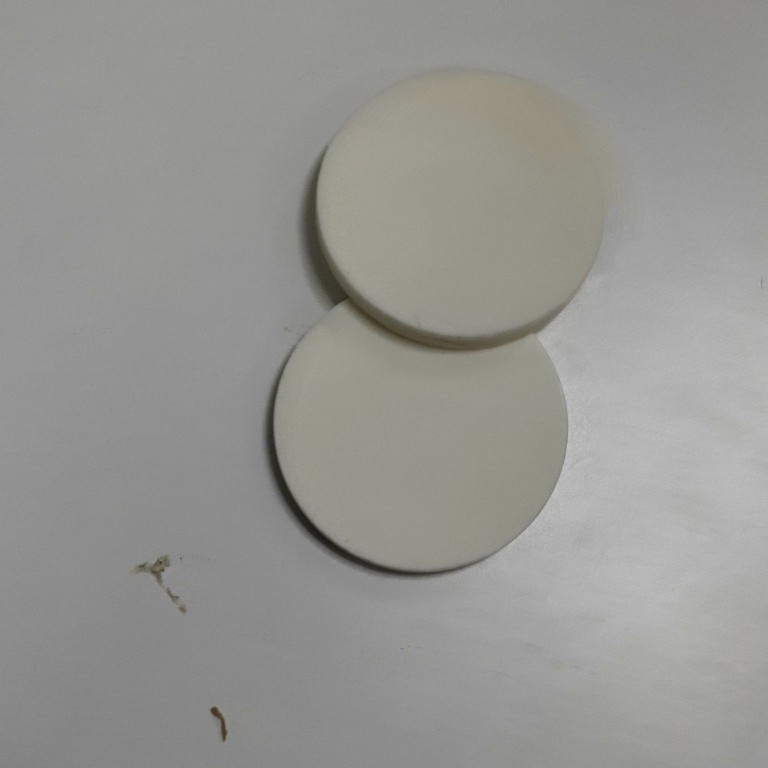ceramics: (259, 289, 580, 579), (303, 63, 616, 348)
